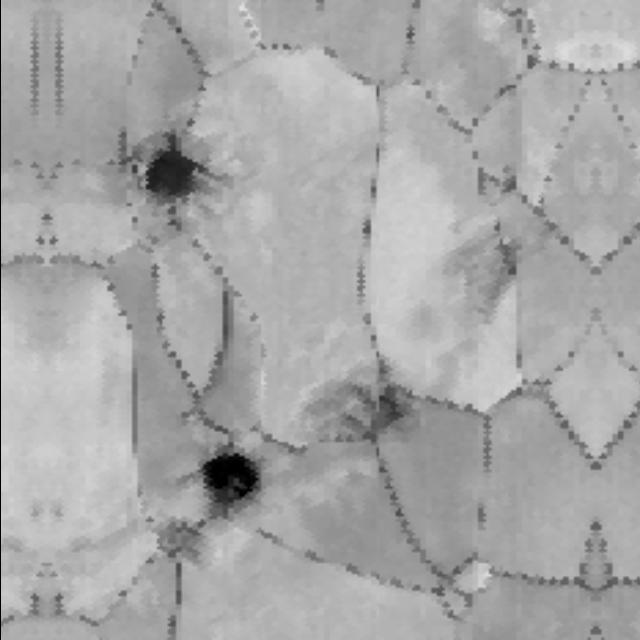good_void: (432, 213, 525, 326), (298, 368, 411, 450), (133, 127, 210, 201), (192, 441, 265, 517), (140, 504, 208, 564)
